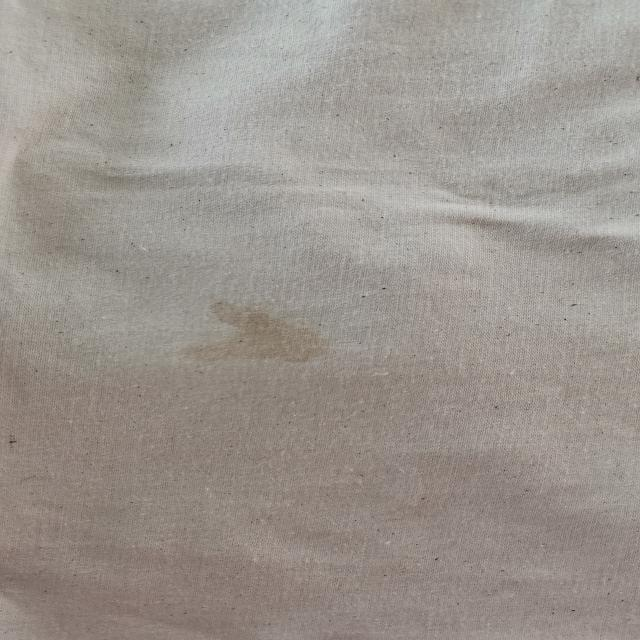taaaches: (188, 294, 338, 376)
